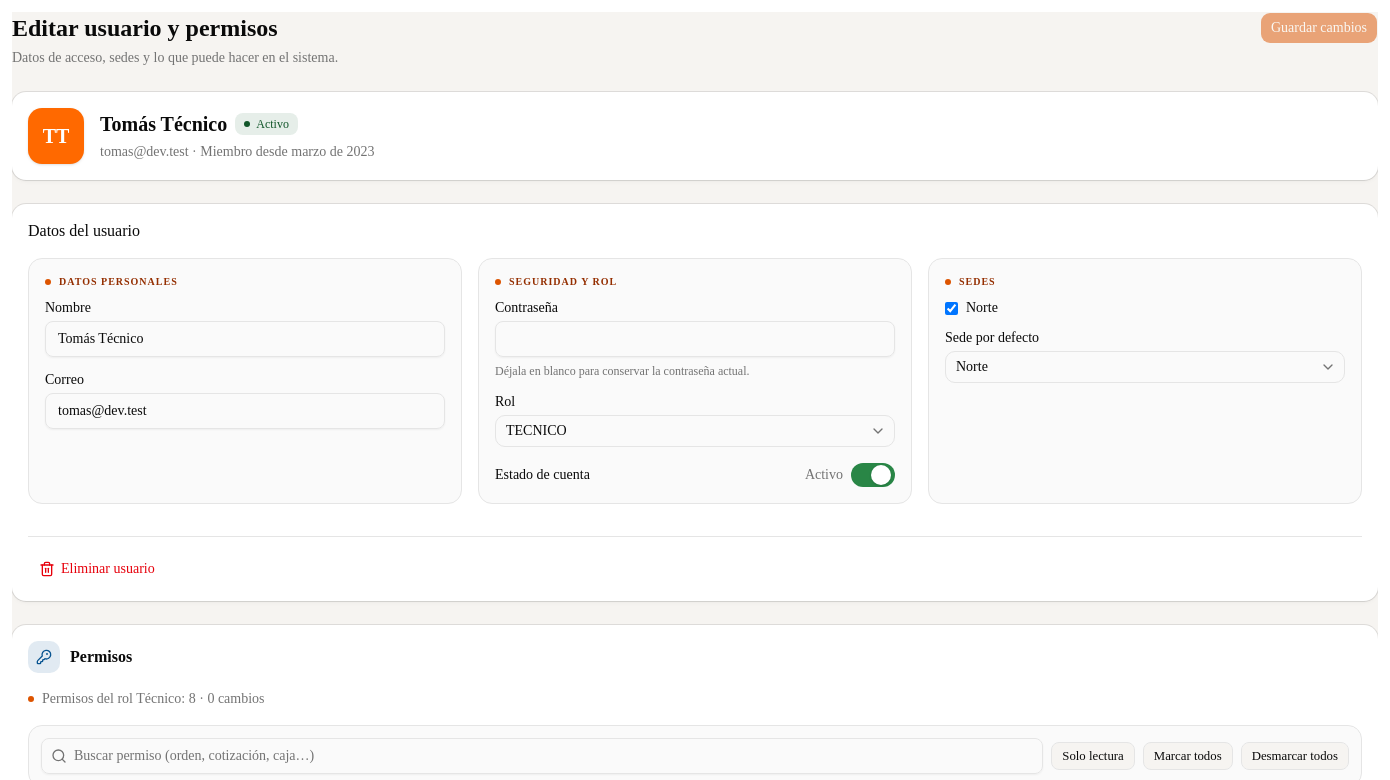
Test case: FichaUsuario › Descartar queda deshabilitado mientras el formulario guarda
The image size is (1390, 780).
Type " X" into the field labelled "Nombre".
click(245, 339); type(" X")  # box [45,321,445,357]
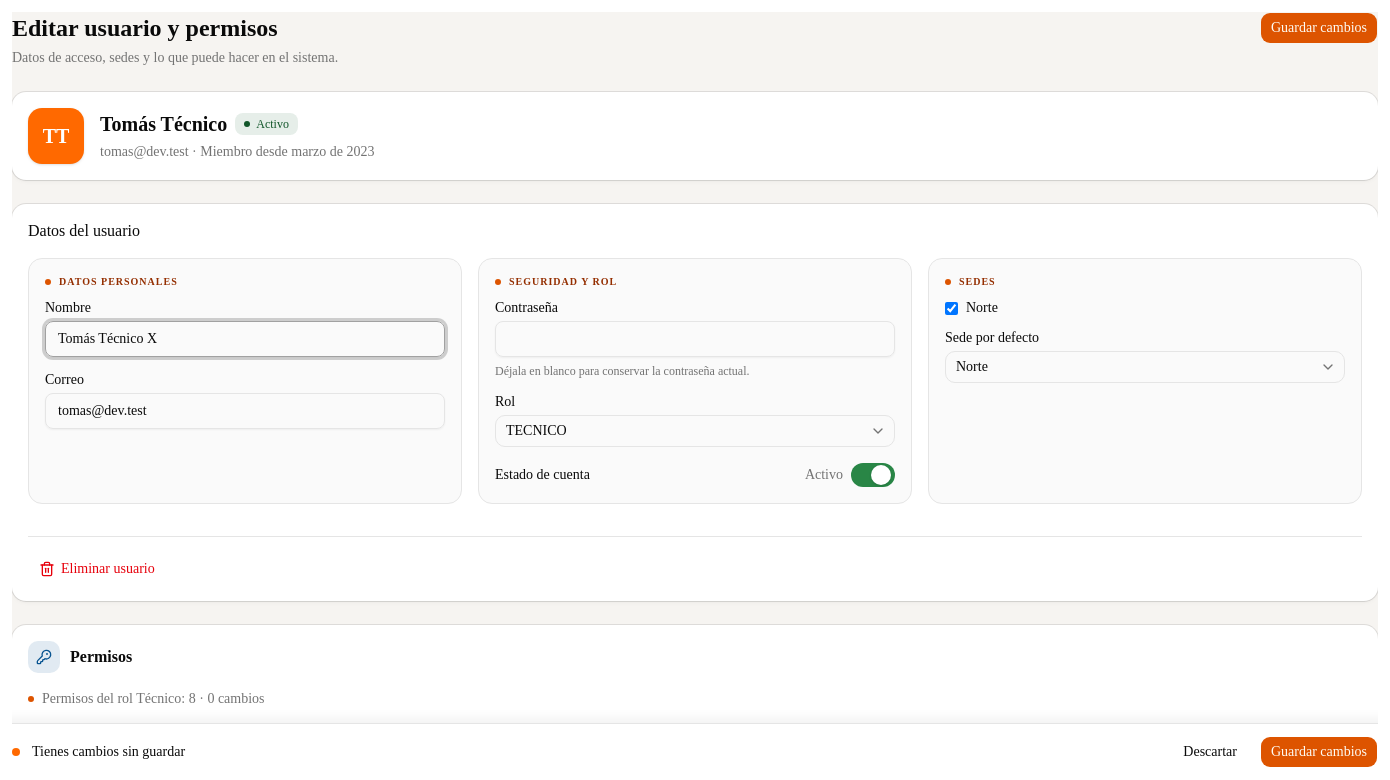
Click the button "Guardar cambios" in the row of "Editar usuario y permisos".
click(1319, 28)  # box [1260,12,1378,44]
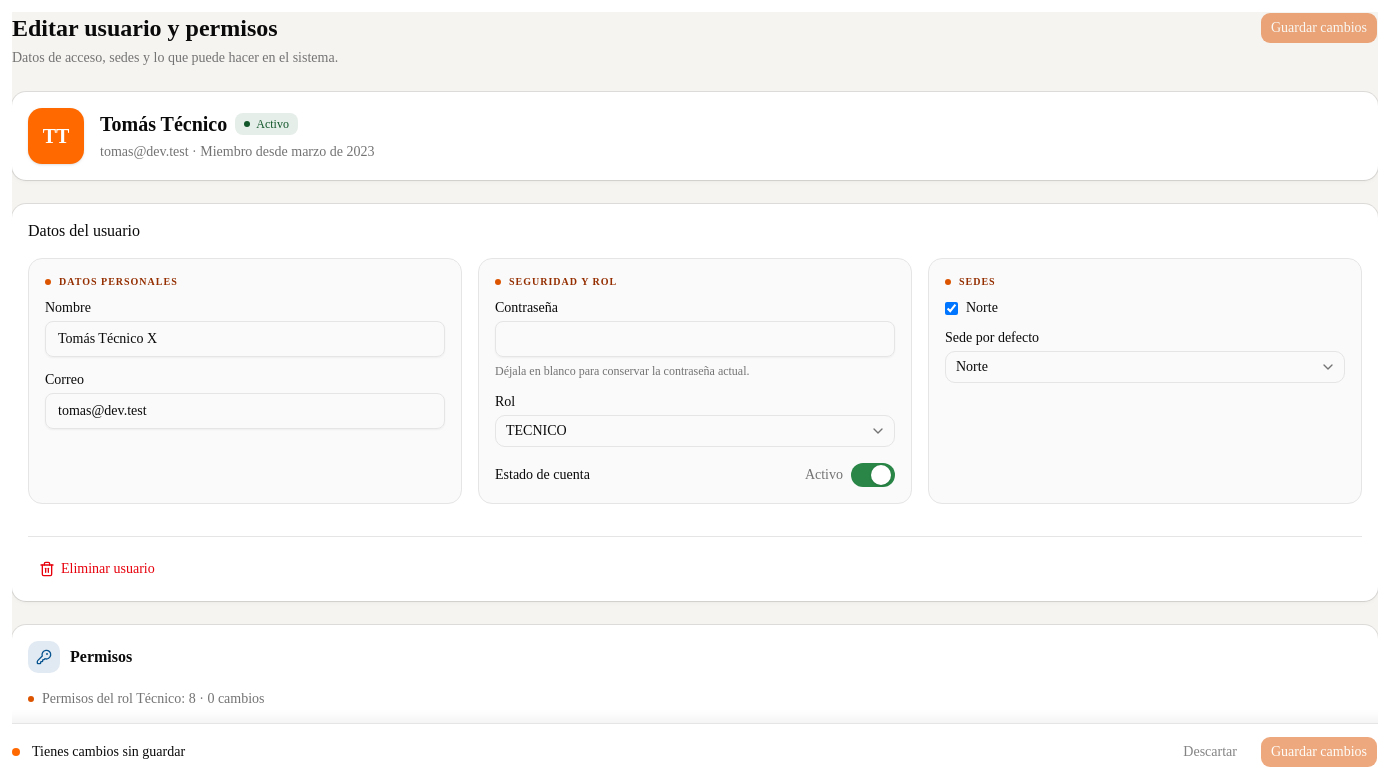
Now the button "Descartar" is disabled, box [1172,736,1248,768]
